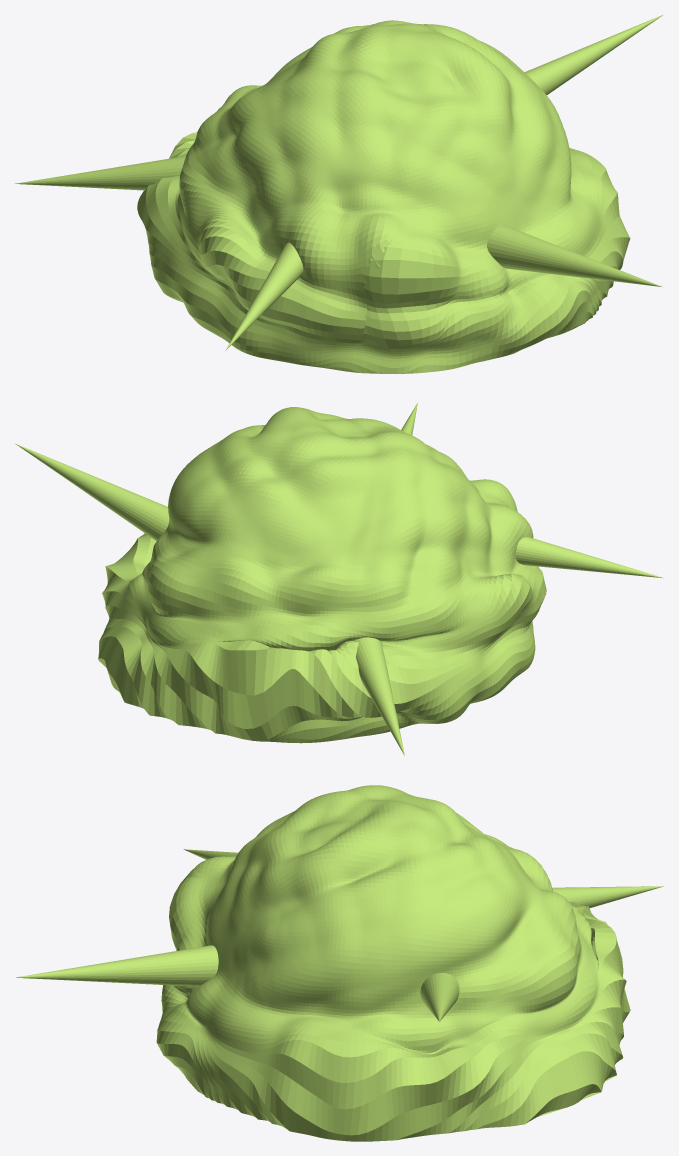
Rendered from Slime.fbx.
3 renders of one model, top to bottom at view 1: azimuth 30°, elevation 25°; view 2: azimuth 150°, elevation 25°; view 3: azimuth 270°, elevation 25°, orthographic. The views are drawn at different scales.
Visible parts, largest first — view 1: Cone.001; view 2: Cone.001; view 3: Cone.001.
Boxes of the visible parts, x1,y1,x2,y2 form: Cone.001: (14,14,663,373); Cone.001: (15,402,664,755); Cone.001: (15,785,663,1141).
Bounding box in the file's own units: 479 × 192 × 482.
